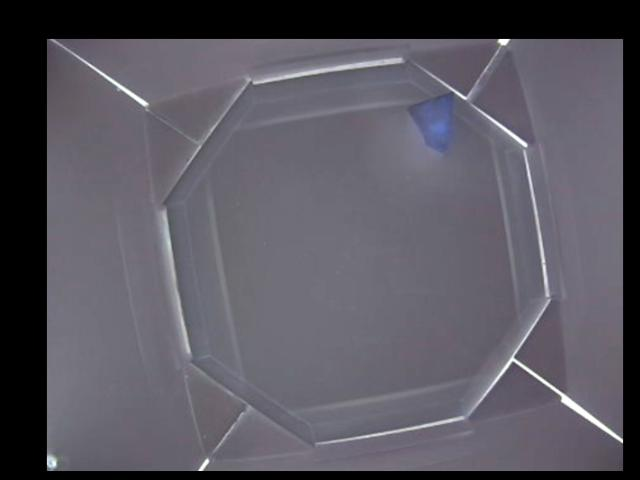Mooli: (407, 91, 458, 153)
